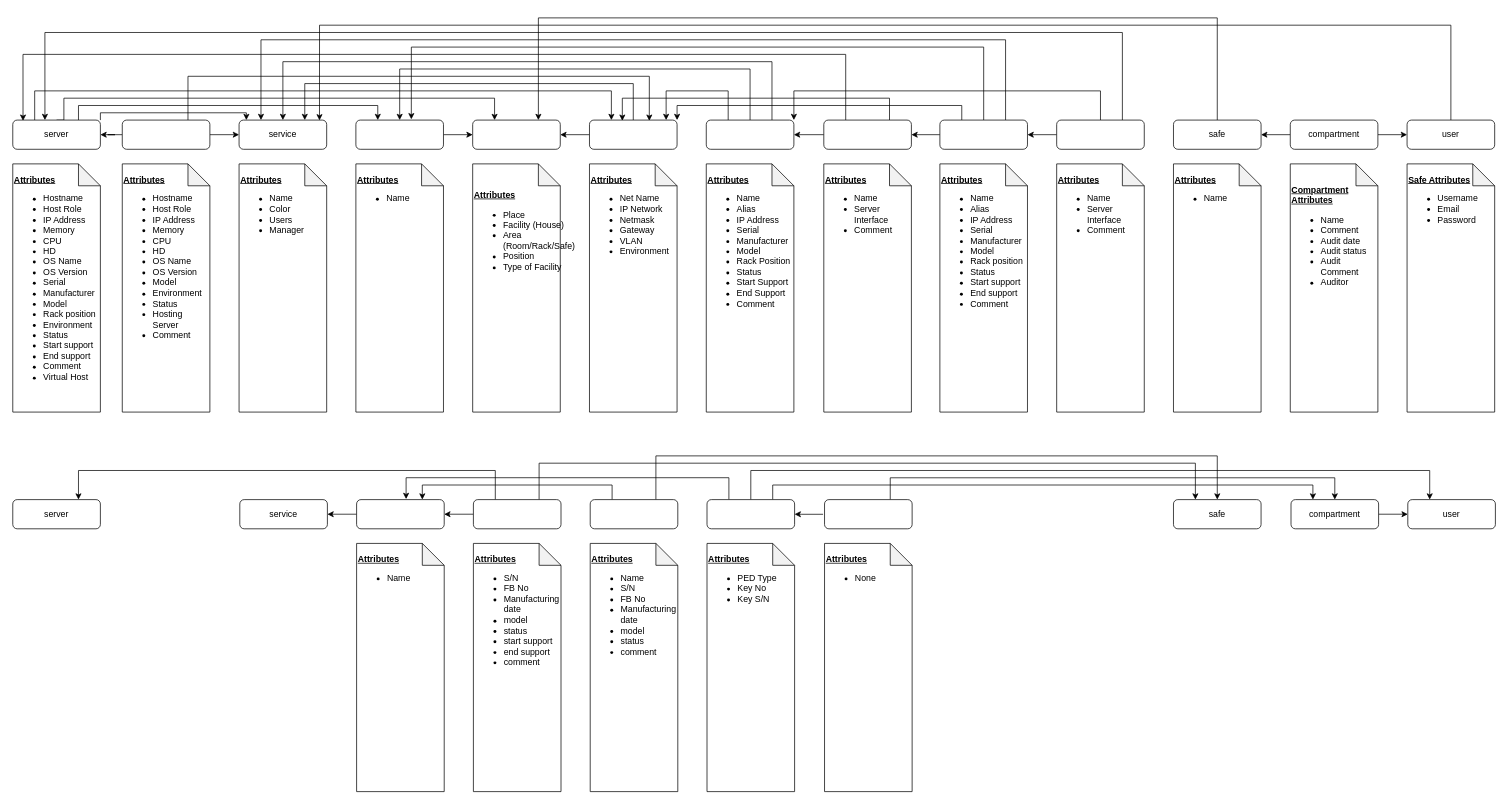
This 1508x804 diagram has some shape labels left out. Each missing label, with the box of its shape:
fireall port: (1056, 119, 1144, 149)
firewall: (939, 119, 1027, 149)
HSM Backup Unit: (589, 499, 678, 529)
HSM Domain: (356, 499, 444, 529)
HSM PCI Card: (473, 499, 561, 529)
HSM PED: (706, 499, 795, 529)
HSM PIN: (824, 499, 912, 529)
Location: (472, 119, 560, 149)
network: (589, 119, 677, 149)
rack: (355, 119, 443, 149)
switch: (706, 119, 794, 149)
switch port: (823, 119, 911, 149)
virtual server: (122, 119, 210, 149)
